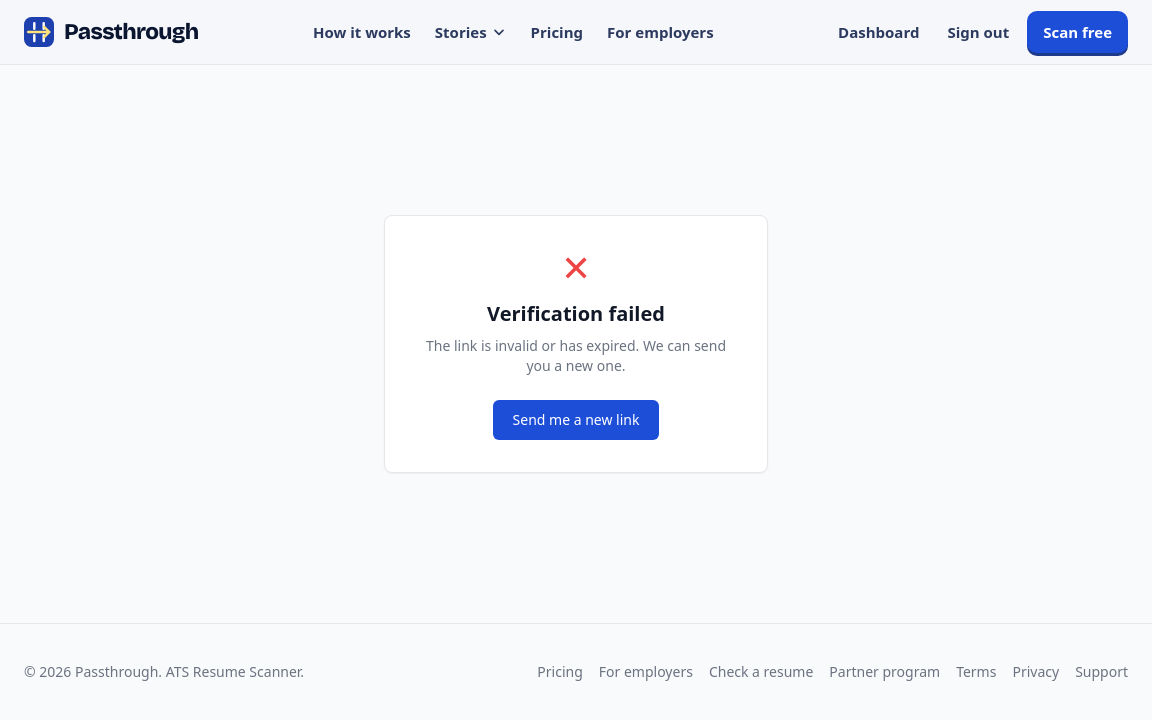
it: VerifyEmail › a signed-in person can ask for a new link right there
The image size is (1152, 720).
Click the button "Send me a new link". click: (576, 420)
box: [493,400,660,440]
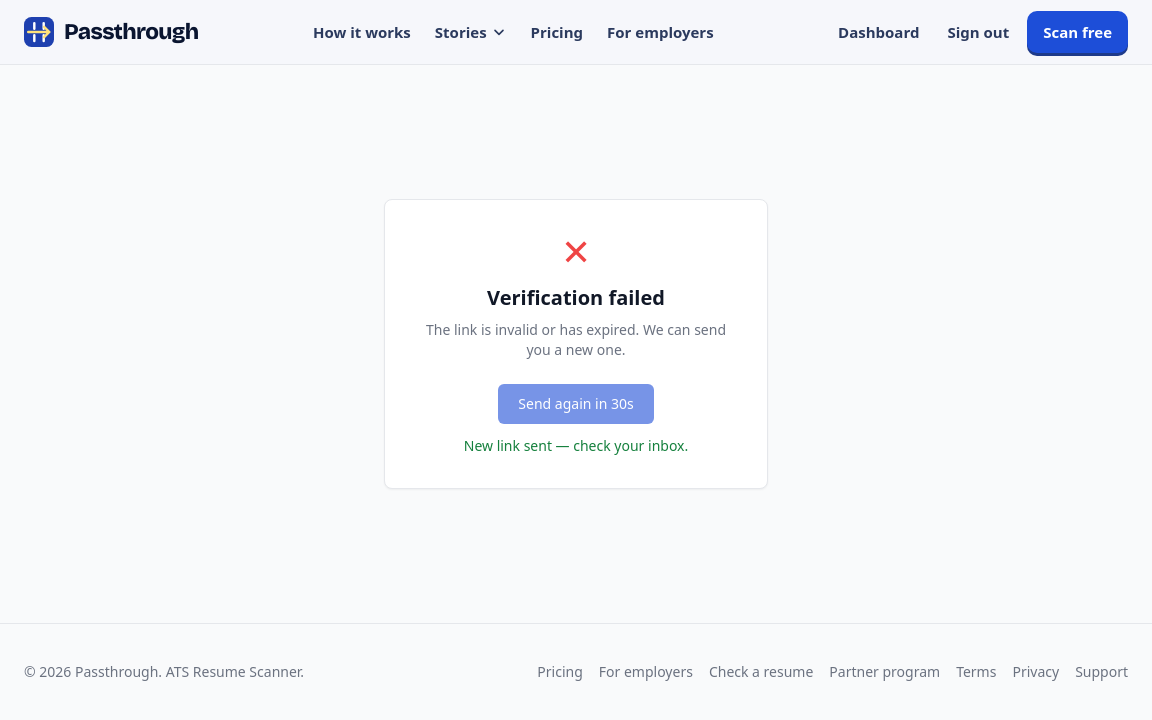
expect the text "New link sent — check your inbox." is shown: met, box [464,436,688,455]
